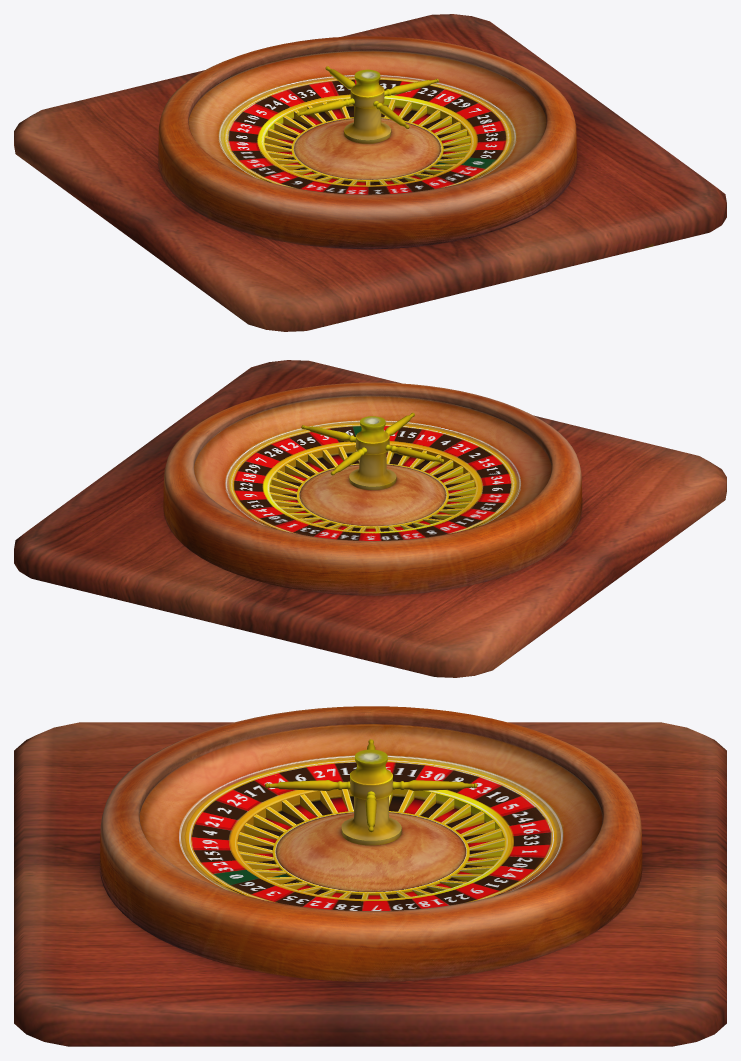
File: Roulette french37_13.FBX
The picture shows the model from 3 angles, top to bottom: view 1: azimuth 30°, elevation 25°; view 2: azimuth 150°, elevation 25°; view 3: azimuth 270°, elevation 25°; orthographic projection. The views are drawn at different scales.
Visible parts, largest first — view 1: Object001, Roulette French 37, Object004; view 2: Object001, Roulette French 37, Object004; view 3: Object001, Roulette French 37, Object004.
Part boxes in pixels (<box>): Object001: <box>14,14,726,331</box>; Roulette French 37: <box>158,36,576,249</box>; Object004: <box>223,66,511,194</box>; Object001: <box>14,360,726,677</box>; Roulette French 37: <box>163,382,582,595</box>; Object004: <box>229,412,516,540</box>; Object001: <box>14,722,726,1046</box>; Roulette French 37: <box>100,706,642,981</box>; Object004: <box>184,739,557,910</box>.
Bounding box in the file's own units: 2.74 × 0.5854 × 2.74.
